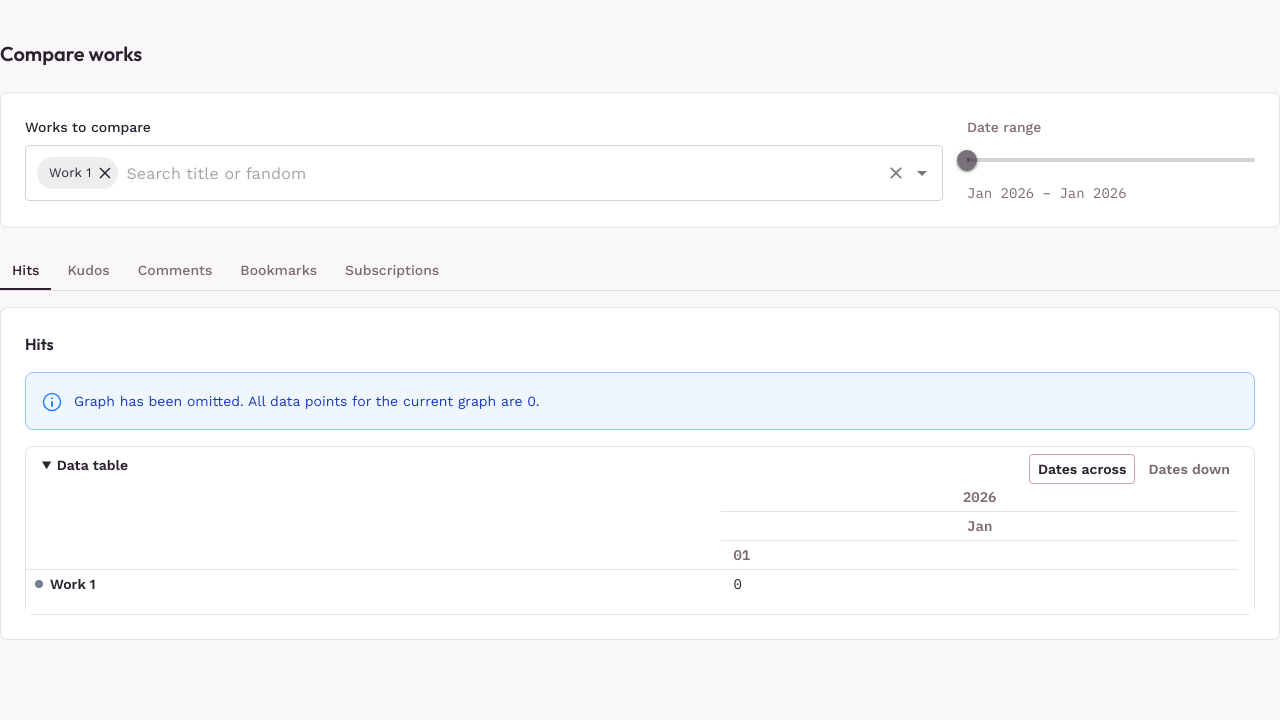
Test: WorkComparisonSection › 10 works selected (at the cap) › renders all 10 selected works' legend entries across the comparison charts
The image size is (1280, 720).
Click the dropdown labelled "Works to compare" at [500, 173], box [121, 154, 878, 192]
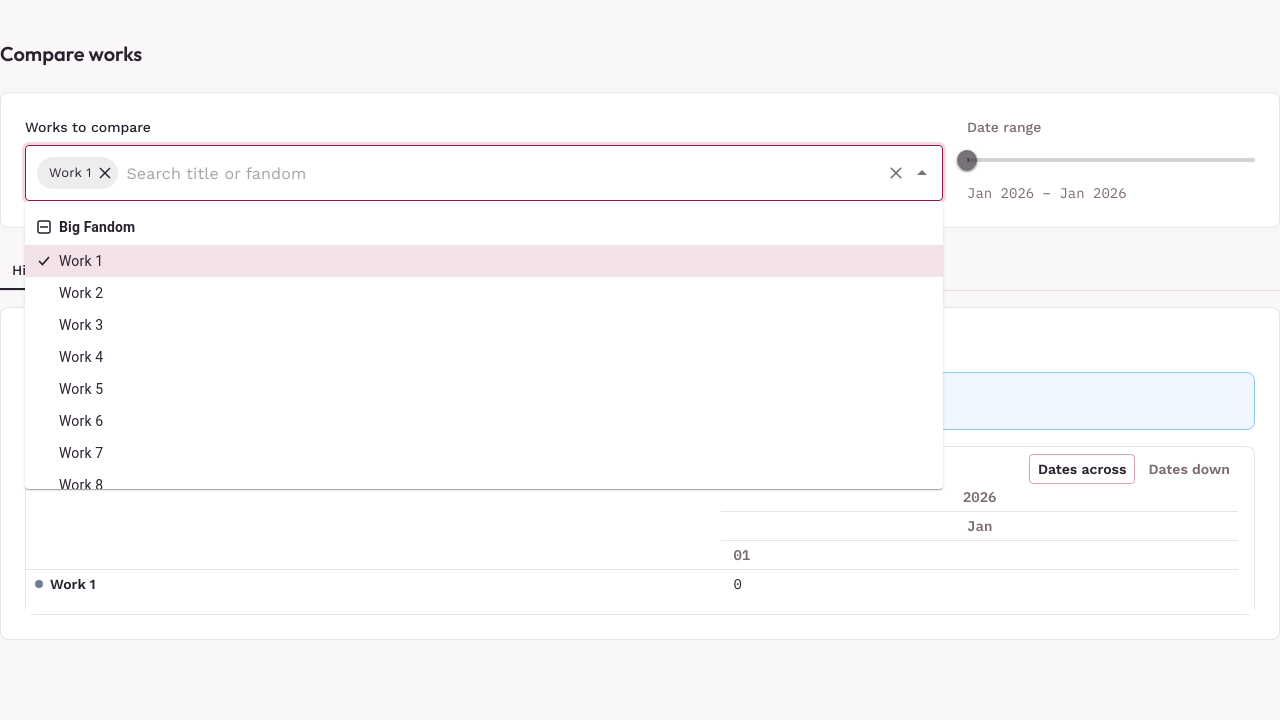
Click the option "Big Fandom" at [86, 227], box [37, 219, 135, 235]
(page scrolled)
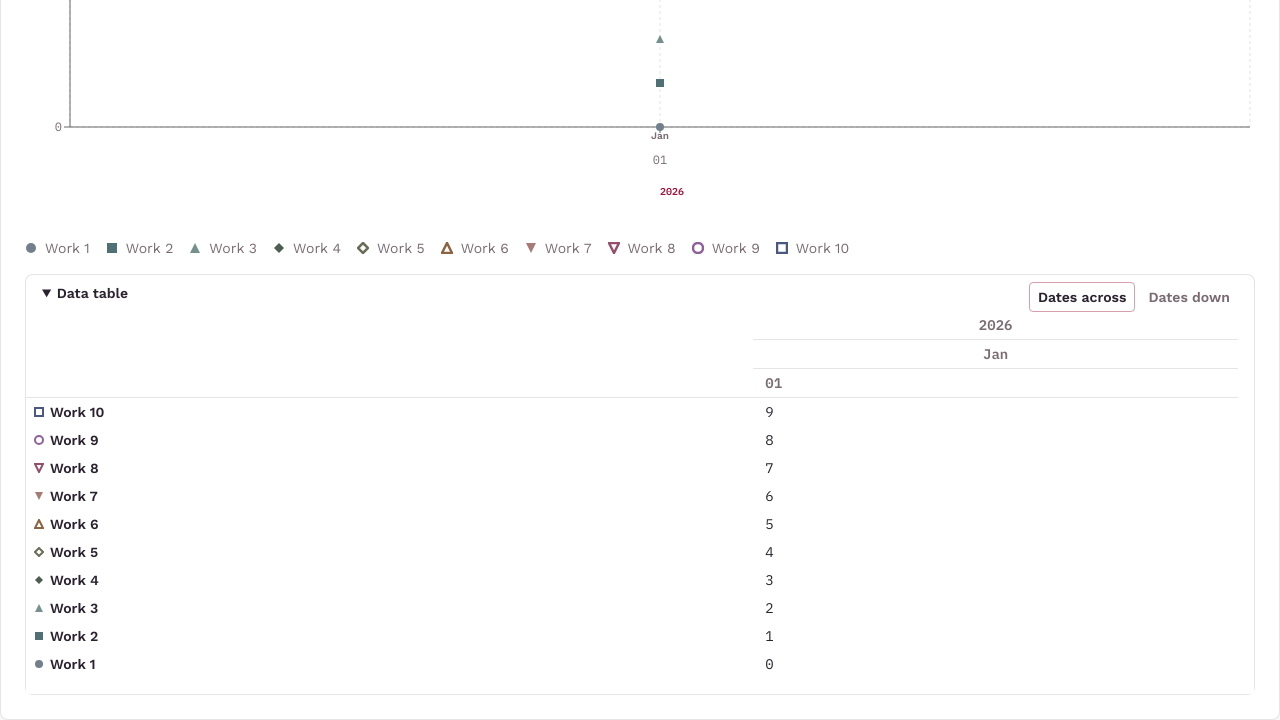
Check: the 2nd text "Work 10" is shown, box [50, 404, 104, 420]
